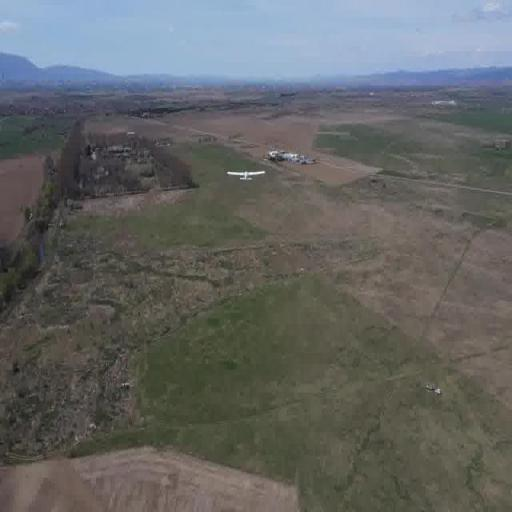uav: (226, 165, 268, 190)
